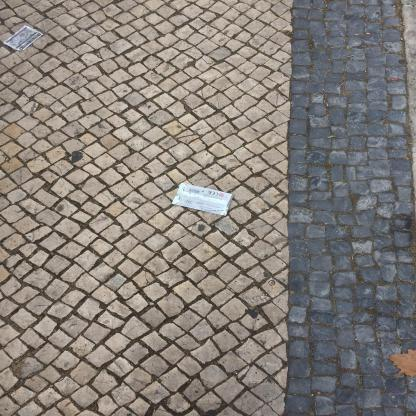kagit: (4, 26, 45, 52)
plastik: (172, 184, 236, 218)
